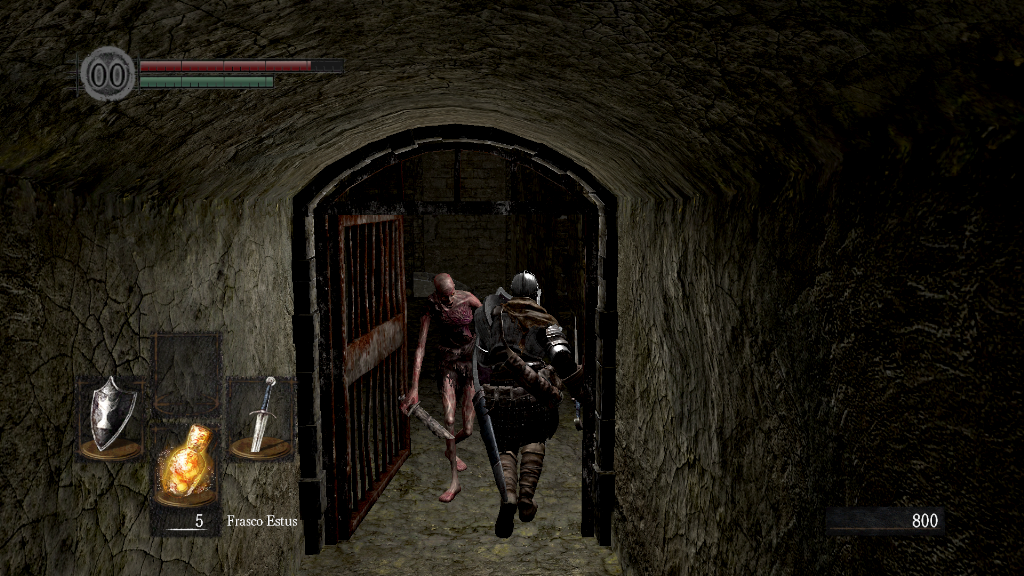health: (138, 58, 343, 71)
hollow: (395, 271, 487, 507)
humanity: (80, 45, 136, 102)
player: (471, 271, 594, 540)
souls: (825, 506, 945, 536)
stamina: (138, 74, 274, 88)
